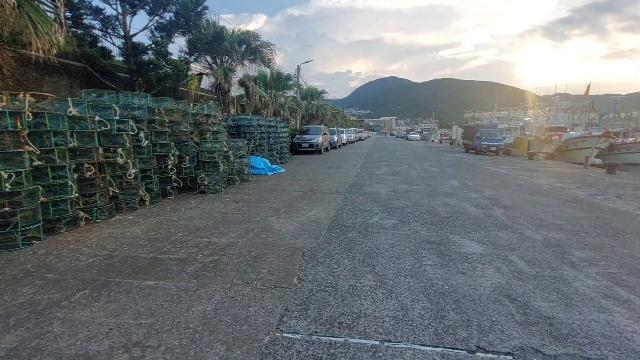pollute: (251, 158, 284, 177)
